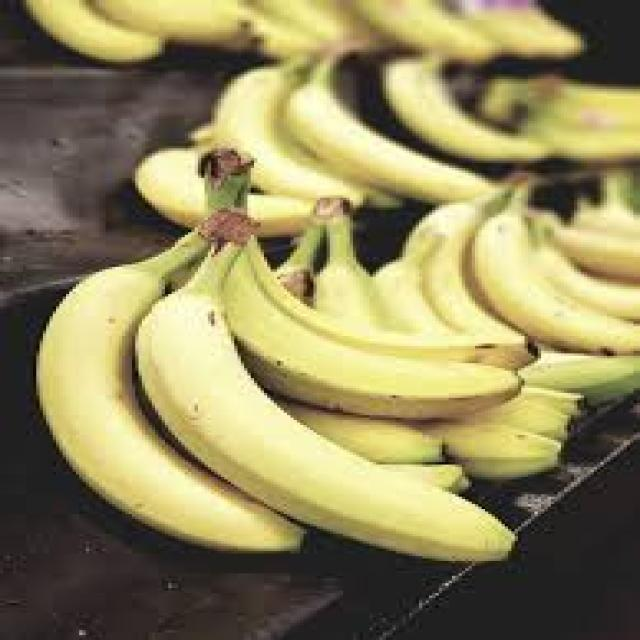banana: (36, 207, 522, 567), (168, 140, 554, 481)
